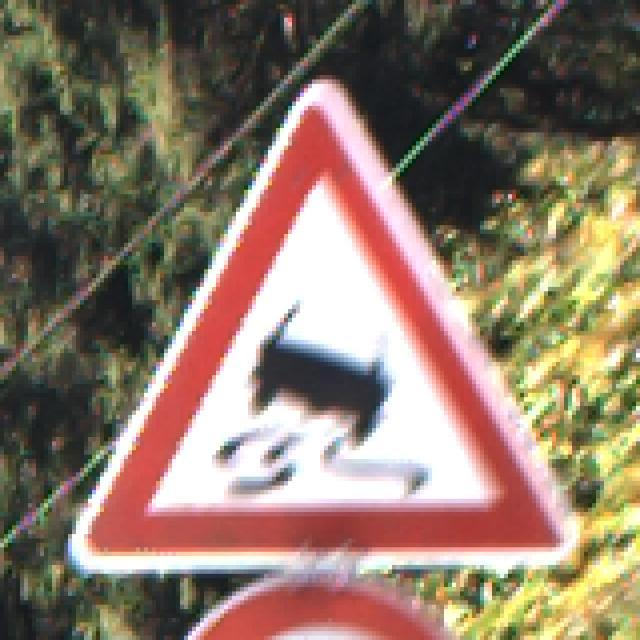slippery road: (68, 78, 579, 572)
